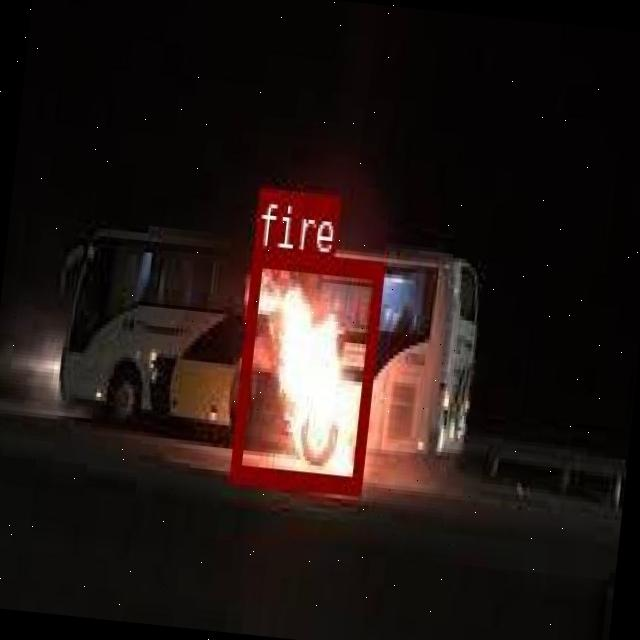fire: (228, 248, 382, 490)
